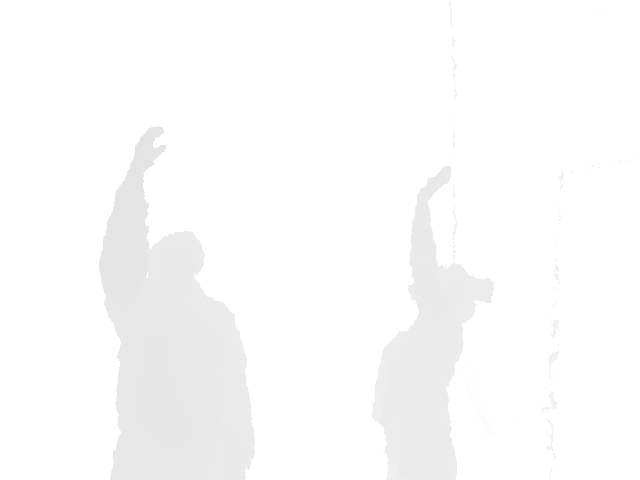hand: (130, 125, 166, 177), (417, 167, 452, 206)
head: (407, 263, 494, 332), (147, 231, 205, 289)
person: (98, 125, 257, 480), (371, 166, 495, 480)
